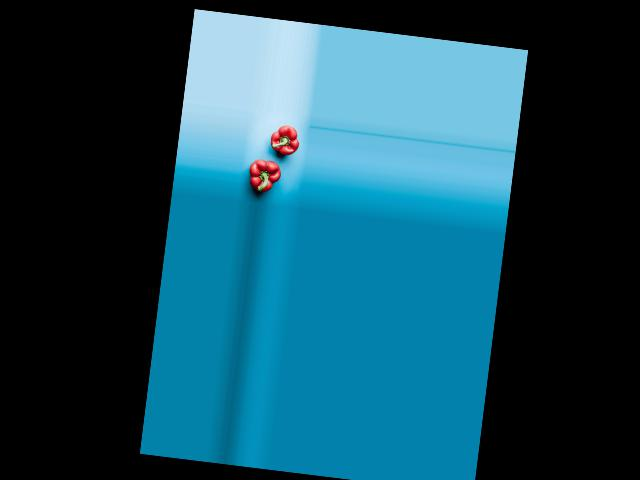bell_pepper: (247, 151, 286, 198)
